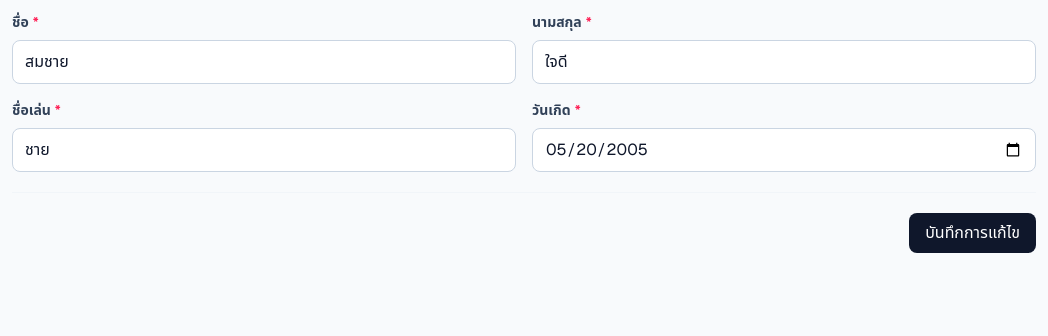
it: StudentForm › shows a submit failure without clearing user input
Replace the text in the field labelled "ชื่อเล่น" with "ใหม่" at (264, 150), box [12,128,516,172]
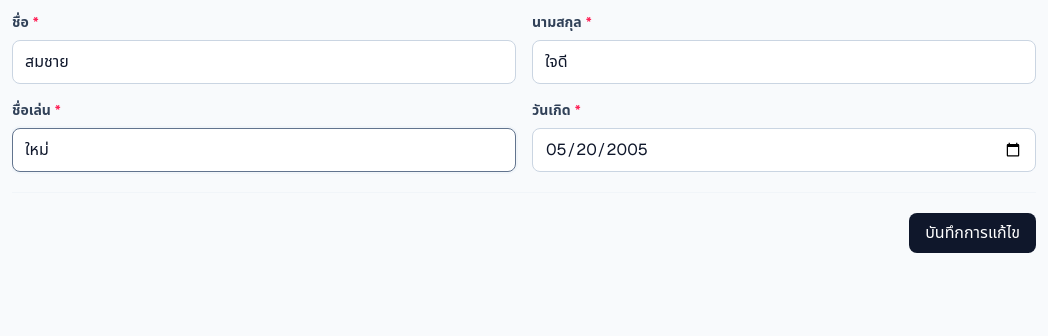
Click the button "บันทึกการแก้ไข" at (973, 233), box [909,213,1036,253]
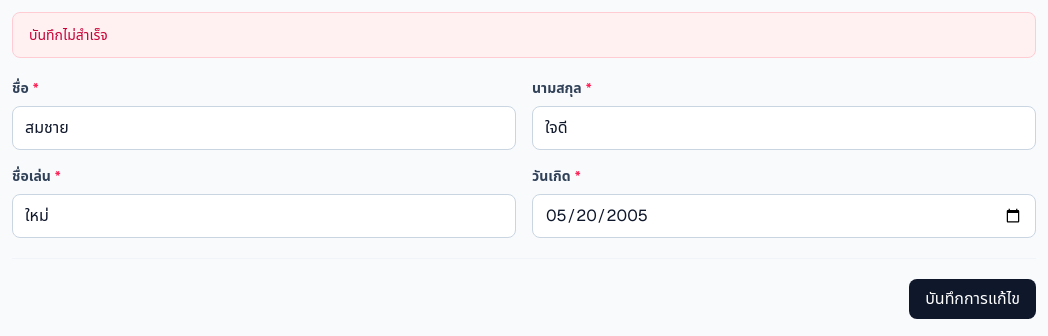
Check: the message reads "บันทึกไม่สำเร็จ", box [29,26,108,44]
